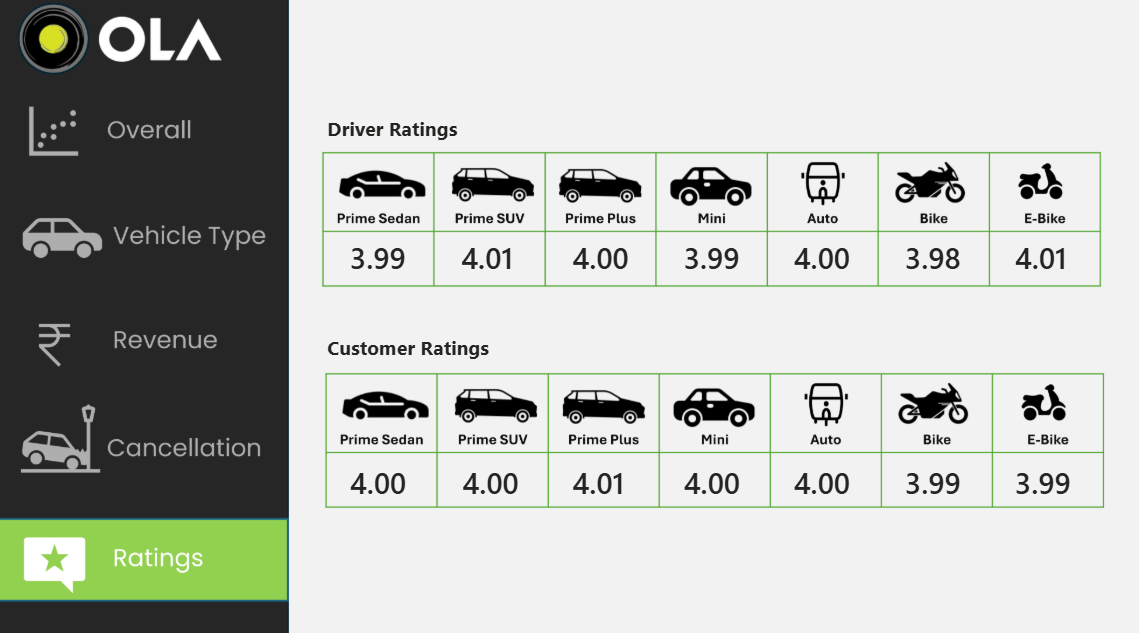

The dashboard page shown, as its layout file describes it:
{"tool":"powerbi","page":{"name":"Ratings","canvas":[1280,720],"ordinal":4},"visuals":[{"type":"actionButton","box":[0,230,321.4,91.4],"z":0},{"type":"actionButton","box":[0,334.2,322.1,90.5],"z":1000},{"type":"actionButton","box":[0,448.8,322.1,90.5],"z":2000},{"type":"actionButton","box":[0,579.1,322.1,90.5],"z":3000},{"type":"actionButton","box":[0,113.4,322.1,90.5],"z":4000},{"type":"cardVisual","fields":{"Data":["Avg(July.Driver_Ratings)"]},"box":[361.4,261.4,121.4,60],"z":5000},{"type":"cardVisual","fields":{"Data":["Avg(July.Driver_Ratings)"]},"box":[482.9,261.4,121.4,60],"z":6000},{"type":"cardVisual","fields":{"Data":["Avg(July.Driver_Ratings)"]},"box":[605.7,261.4,121.4,60],"z":7000},{"type":"cardVisual","fields":{"Data":["Avg(July.Driver_Ratings)"]},"box":[727.1,261.4,121.4,60],"z":8000},{"type":"cardVisual","fields":{"Data":["Avg(July.Driver_Ratings)"]},"box":[848.6,261.4,121.4,60],"z":9000},{"type":"cardVisual","fields":{"Data":["Avg(July.Driver_Ratings)"]},"box":[970,261.4,121.4,60],"z":10000},{"type":"cardVisual","fields":{"Data":["Avg(July.Driver_Ratings)"]},"box":[1091.4,261.4,121.4,60],"z":11000},{"type":"cardVisual","fields":{"Data":["Avg(July.Customer_Rating)"]},"box":[361.4,508.6,121.4,60],"z":12000},{"type":"cardVisual","fields":{"Data":["Avg(July.Customer_Rating)"]},"box":[484.3,508.6,121.4,60],"z":13000},{"type":"cardVisual","fields":{"Data":["Avg(July.Customer_Rating)"]},"box":[605.7,508.6,121.4,60],"z":14000},{"type":"cardVisual","fields":{"Data":["Avg(July.Customer_Rating)"]},"box":[727.1,508.6,121.4,60],"z":15000},{"type":"cardVisual","fields":{"Data":["Avg(July.Customer_Rating)"]},"box":[848.6,508.6,121.4,60],"z":16000},{"type":"cardVisual","fields":{"Data":["Avg(July.Customer_Rating)"]},"box":[970,508.6,121.4,60],"z":17000},{"type":"cardVisual","fields":{"Data":["Avg(July.Customer_Rating)"]},"box":[1091.4,508.6,121.4,60],"z":18000},{"type":"textbox","box":[361.4,130,158.6,38.6],"z":19000},{"type":"textbox","box":[361.4,370,212.9,42.9],"z":20000}]}

Visuals, with their boxes on the page's 1280x720 design canvas (x1, y1, x2, y2). These are canvas units, not pixel positions in the 1139x633 screenshot, which may show the page scaled, cropped or inside an application window:
actionButton: {"x1": 0, "y1": 230, "x2": 321, "y2": 321}
actionButton: {"x1": 0, "y1": 334, "x2": 322, "y2": 425}
actionButton: {"x1": 0, "y1": 449, "x2": 322, "y2": 539}
actionButton: {"x1": 0, "y1": 579, "x2": 322, "y2": 670}
actionButton: {"x1": 0, "y1": 113, "x2": 322, "y2": 204}
cardVisual - Avg(July.Driver_Ratings): {"x1": 361, "y1": 261, "x2": 483, "y2": 321}
cardVisual - Avg(July.Driver_Ratings): {"x1": 483, "y1": 261, "x2": 604, "y2": 321}
cardVisual - Avg(July.Driver_Ratings): {"x1": 606, "y1": 261, "x2": 727, "y2": 321}
cardVisual - Avg(July.Driver_Ratings): {"x1": 727, "y1": 261, "x2": 848, "y2": 321}
cardVisual - Avg(July.Driver_Ratings): {"x1": 849, "y1": 261, "x2": 970, "y2": 321}
cardVisual - Avg(July.Driver_Ratings): {"x1": 970, "y1": 261, "x2": 1091, "y2": 321}
cardVisual - Avg(July.Driver_Ratings): {"x1": 1091, "y1": 261, "x2": 1213, "y2": 321}
cardVisual - Avg(July.Customer_Rating): {"x1": 361, "y1": 509, "x2": 483, "y2": 569}
cardVisual - Avg(July.Customer_Rating): {"x1": 484, "y1": 509, "x2": 606, "y2": 569}
cardVisual - Avg(July.Customer_Rating): {"x1": 606, "y1": 509, "x2": 727, "y2": 569}
cardVisual - Avg(July.Customer_Rating): {"x1": 727, "y1": 509, "x2": 848, "y2": 569}
cardVisual - Avg(July.Customer_Rating): {"x1": 849, "y1": 509, "x2": 970, "y2": 569}
cardVisual - Avg(July.Customer_Rating): {"x1": 970, "y1": 509, "x2": 1091, "y2": 569}
cardVisual - Avg(July.Customer_Rating): {"x1": 1091, "y1": 509, "x2": 1213, "y2": 569}
textbox: {"x1": 361, "y1": 130, "x2": 520, "y2": 169}
textbox: {"x1": 361, "y1": 370, "x2": 574, "y2": 413}
